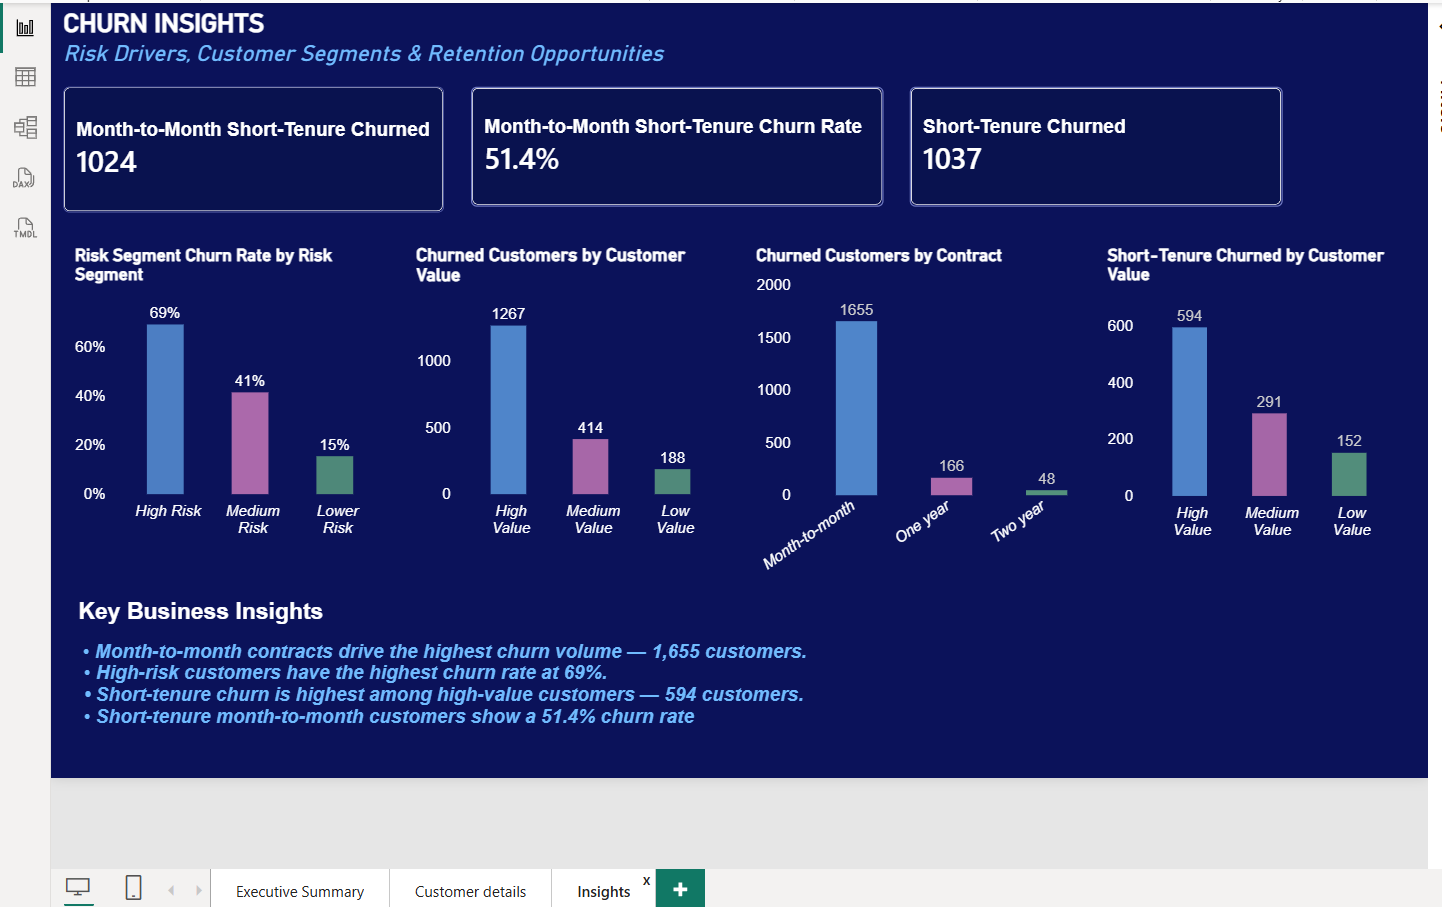

Layout of this report page (visuals, bound fields, positions):
{"tool":"powerbi","page":{"name":"Insights","canvas":[1920,1080],"ordinal":2},"visuals":[{"type":"cardVisual","title":"M2M + Short -Tenure Churned","fields":{"Data":["Telco-Customer-Churn.Month-to-Month Short-Tenure Churned"]},"box":[17.5,117.5,530,175],"z":0},{"type":"textbox","title":"CHURN INSIGHTS","box":[17.5,7.5,435,45],"z":1000},{"type":"textbox","title":"Risk Drivers, Customer Segments & Retention Opportunities","box":[17.5,52.5,855,45],"z":2000},{"type":"clusteredColumnChart","fields":{"Y":["Telco-Customer-Churn.Risk Segment Churn Rate"],"Category":["Telco-Customer-Churn.Risk Segment"]},"box":[17.5,322.5,475,440],"z":3000},{"type":"cardVisual","fields":{"Data":["Telco-Customer-Churn.Month-to-Month Short-Tenure Churn Rate"]},"box":[585,117.5,575,167.5],"z":4000},{"type":"clusteredColumnChart","fields":{"Category":["Telco-Customer-Churn.Customer Value"],"Y":["Telco-Customer-Churn.Churned Customers"]},"box":[492.5,322.5,467.5,440],"z":5000},{"type":"clusteredColumnChart","title":"Churned Customers by Contract","fields":{"Category":["Telco-Customer-Churn.Contract"],"Y":["Telco-Customer-Churn.Churned Customers"]},"box":[967.5,322.5,527.5,507.5],"z":6000},{"type":"textbox","box":[37.5,830,1295,220],"z":7000},{"type":"cardVisual","fields":{"Data":["Telco-Customer-Churn.Short-Tenure Churned by Value"]},"box":[1197.5,117.5,520,167.5],"z":8000},{"type":"clusteredColumnChart","fields":{"Category":["Telco-Customer-Churn.Customer Value"],"Y":["Telco-Customer-Churn.Short-Tenure Churned"]},"box":[1457.5,322.5,445,442.5],"z":9000}]}

Visuals, with their boxes on the page's 1920x1080 design canvas (x1, y1, x2, y2). These are canvas units, not pixel positions in the 1442x907 screenshot, which may show the page scaled, cropped or inside an application window:
"M2M + Short -Tenure Churned" cardVisual: 18 118 548 292
"CHURN INSIGHTS" textbox: 18 8 452 52
"Risk Drivers, Customer Segments & Retention Opportunities" textbox: 18 52 872 98
clusteredColumnChart - Telco-Customer-Churn.Risk Segment Churn Rate x Telco-Customer-Churn.Risk Segment: 18 322 492 762
cardVisual - Telco-Customer-Churn.Month-to-Month Short-Tenure Churn Rate: 585 118 1160 285
clusteredColumnChart - Telco-Customer-Churn.Customer Value x Telco-Customer-Churn.Churned Customers: 492 322 960 762
"Churned Customers by Contract" clusteredColumnChart: 968 322 1495 830
textbox: 38 830 1332 1050
cardVisual - Telco-Customer-Churn.Short-Tenure Churned by Value: 1198 118 1718 285
clusteredColumnChart - Telco-Customer-Churn.Customer Value x Telco-Customer-Churn.Short-Tenure Churned: 1458 322 1902 765
